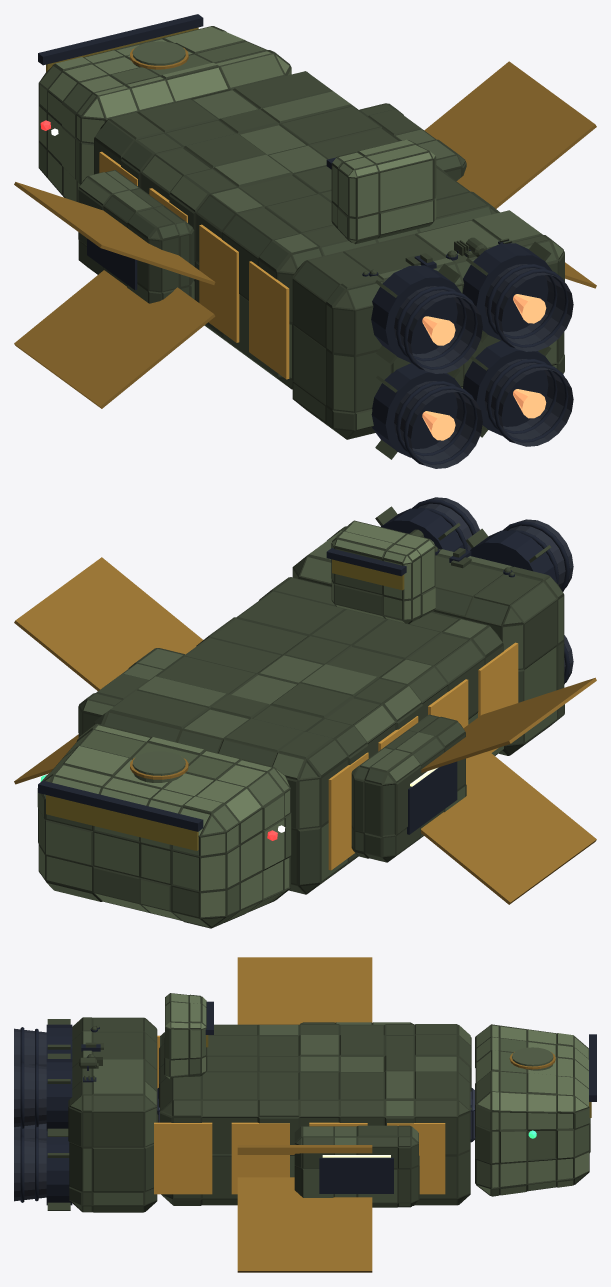
The model's file is trawler.glb.
3 renders of one model, top to bottom at view 1: azimuth 30°, elevation 25°; view 2: azimuth 150°, elevation 25°; view 3: azimuth 270°, elevation 25°, orthographic. The views are drawn at different scales.
Visible parts, largest first — view 1: trawler_mesh; view 2: trawler_mesh; view 3: trawler_mesh.
Boxes of the visible parts, x1=… form: trawler_mesh: x1=14, y1=14, x2=596, y2=468; trawler_mesh: x1=14, y1=497, x2=596, y2=928; trawler_mesh: x1=14, y1=957, x2=596, y2=1272.
Bounding box in the file's own units: 13.8 × 6.05 × 18.01.
